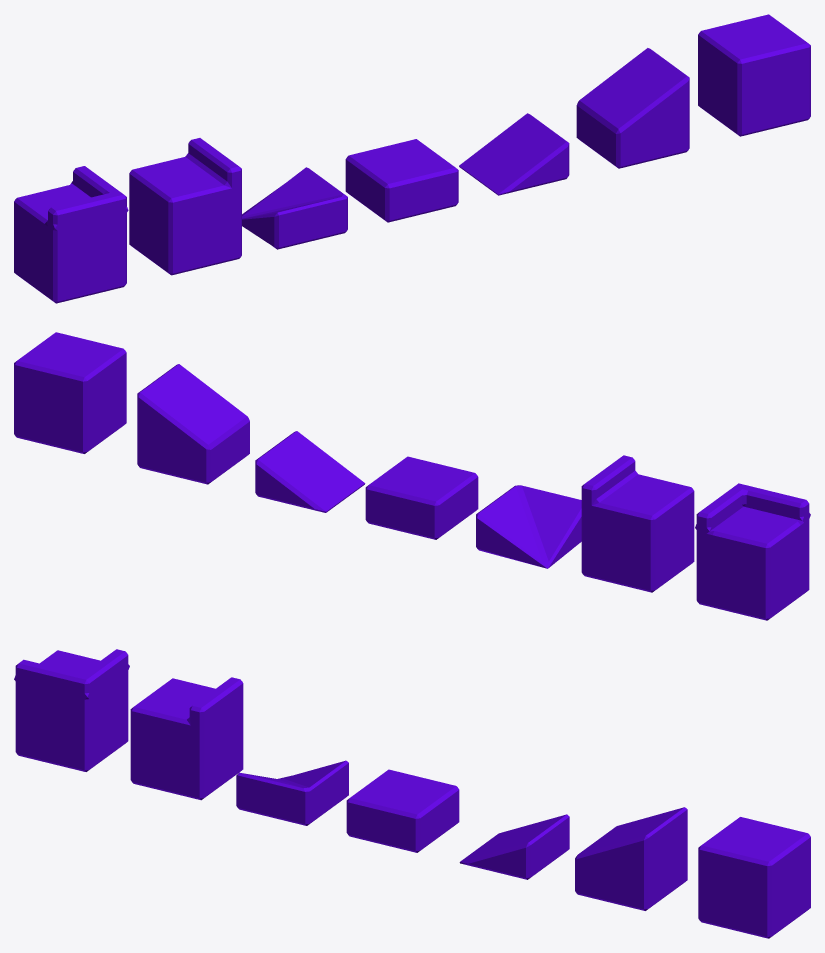
Rendered from world-blocks-v1.glb.
The picture shows the model from 3 angles, top to bottom: view 1: azimuth 30°, elevation 25°; view 2: azimuth 150°, elevation 25°; view 3: azimuth 330°, elevation 25°; orthographic projection.
Parts seen in each view (by area): view 1: BlockWallCorner, BlockWall, Block, RampTop, BlockShort, RampLowerCorner, RampButtom; view 2: BlockWallCorner, BlockWall, Block, RampTop, BlockShort, RampLowerCorner, RampButtom; view 3: BlockWallCorner, BlockWall, Block, RampTop, BlockShort, RampLowerCorner, RampButtom.
Part boxes in pixels (<box>): BlockWallCorner: <box>14,166,128,303</box>; BlockWall: <box>129,138,241,275</box>; Block: <box>698,14,810,136</box>; RampTop: <box>576,48,689,168</box>; BlockShort: <box>345,139,458,222</box>; RampLowerCorner: <box>242,167,347,249</box>; RampButtom: <box>459,113,569,195</box>; BlockWallCorner: <box>695,483,810,620</box>; BlockWall: <box>581,455,694,592</box>; Block: <box>14,332,126,453</box>; RampTop: <box>137,364,249,484</box>; BlockShort: <box>365,456,478,539</box>; RampLowerCorner: <box>476,485,581,568</box>; RampButtom: <box>255,431,365,512</box>; BlockWallCorner: <box>14,649,129,771</box>; BlockWall: <box>130,677,243,800</box>; Block: <box>698,817,810,938</box>; RampTop: <box>575,807,687,910</box>; BlockShort: <box>346,769,459,852</box>; RampLowerCorner: <box>236,760,348,825</box>; RampButtom: <box>459,814,569,879</box>.
Size of what is drawn, in the model's own units: 20.56 by 2.44 by 2.05.
